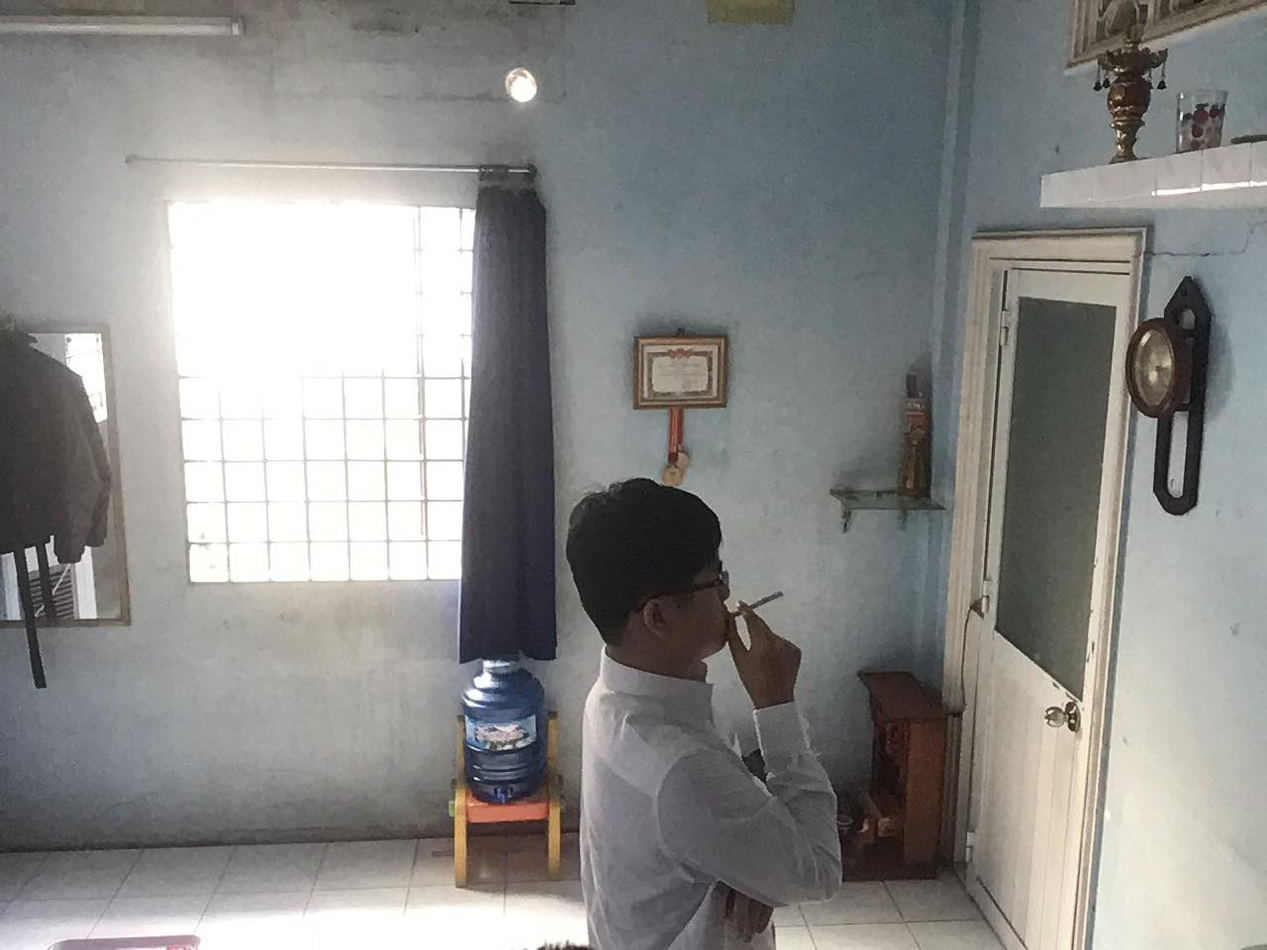cigarette: (716, 586, 787, 618)
person: (526, 454, 857, 950)
